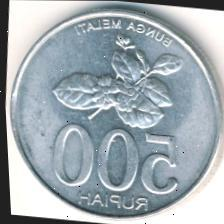coin_500_e2003: (8, 8, 222, 220)
